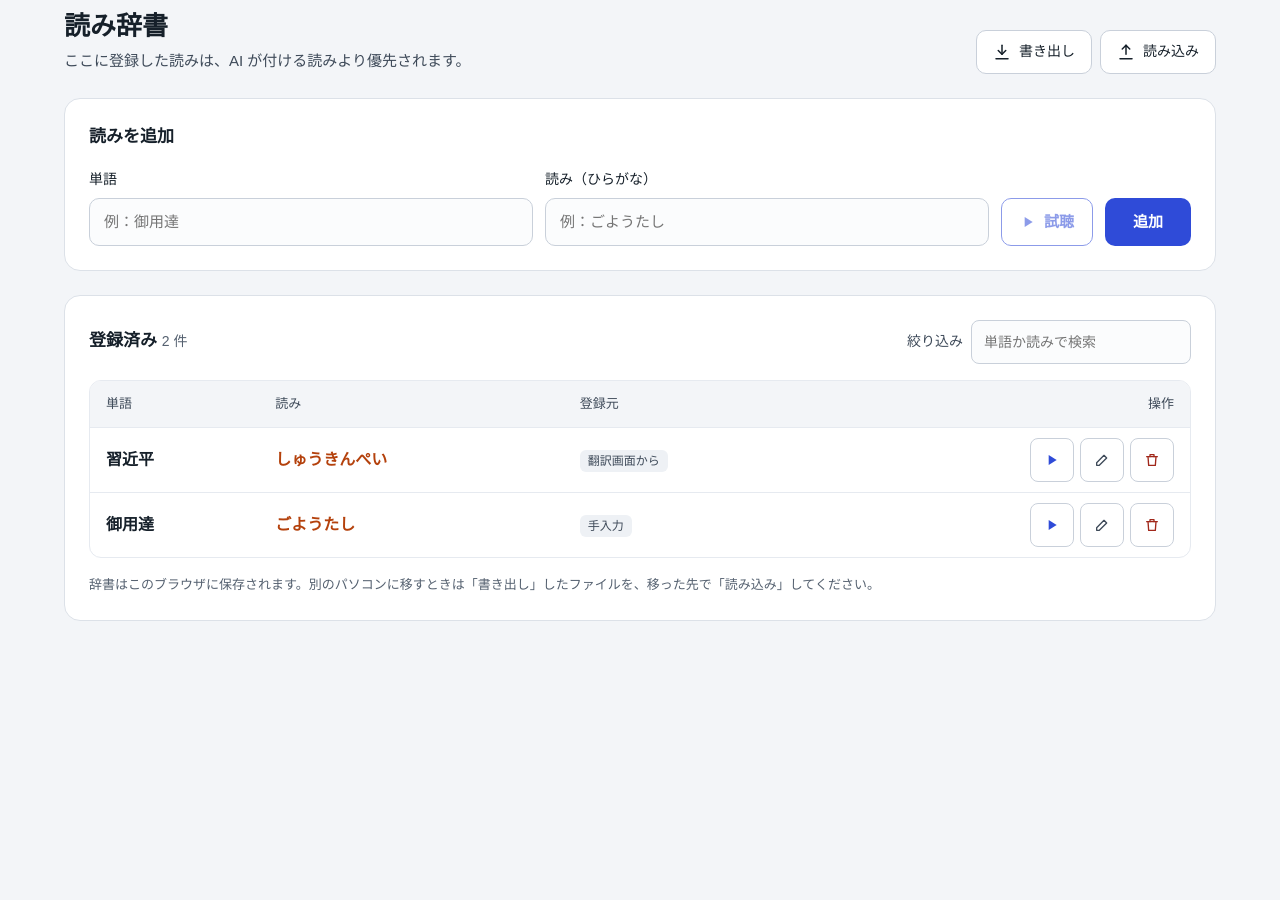
Test: Dictionary 追加 › 読みがひらがなでなければ追加しない
Type "東海林" into the field labelled "単語" at (311, 222), box [89,198,533,246]
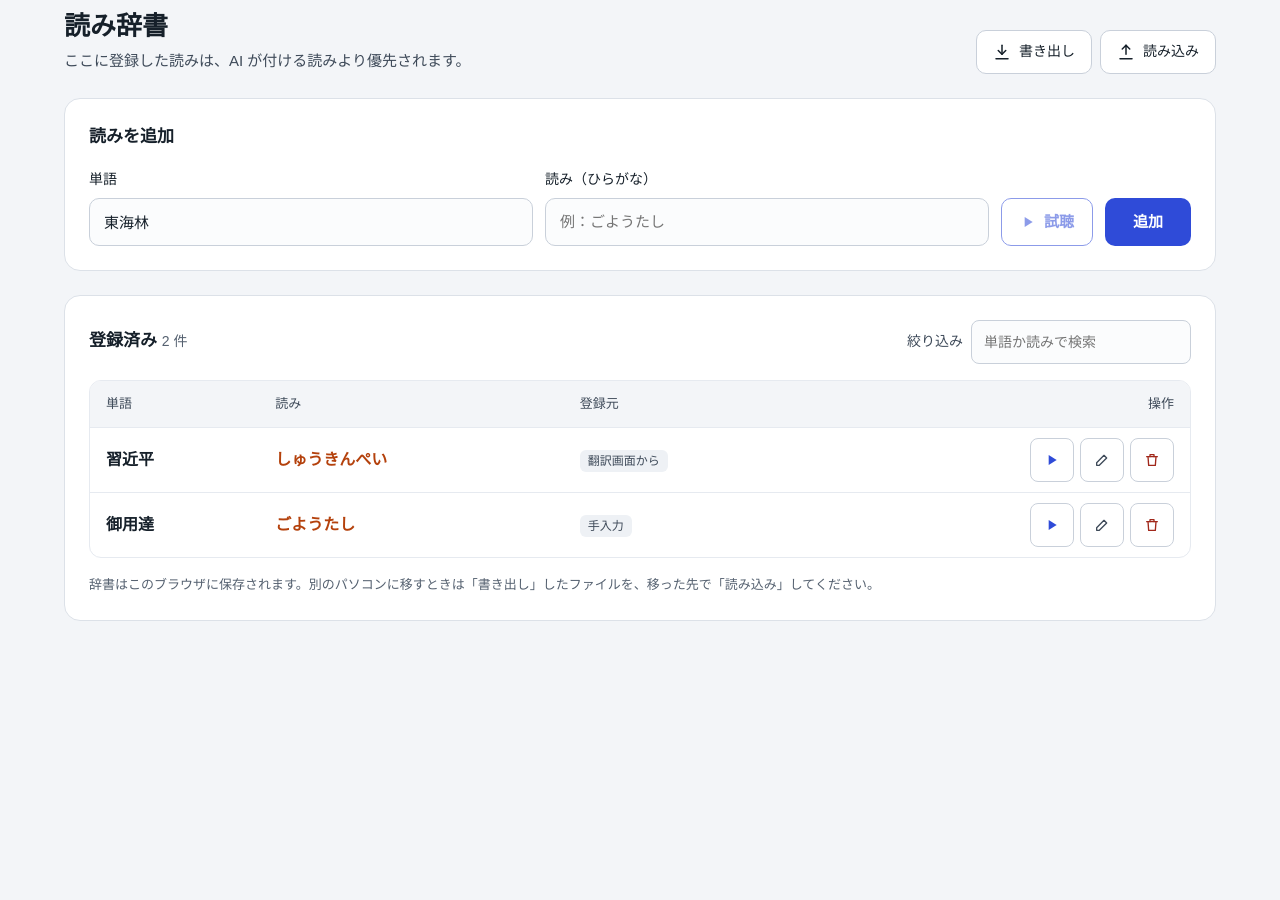
Type "ショウジ" into the field labelled "読み（ひらがな）" at (767, 222), box [545,198,989,246]
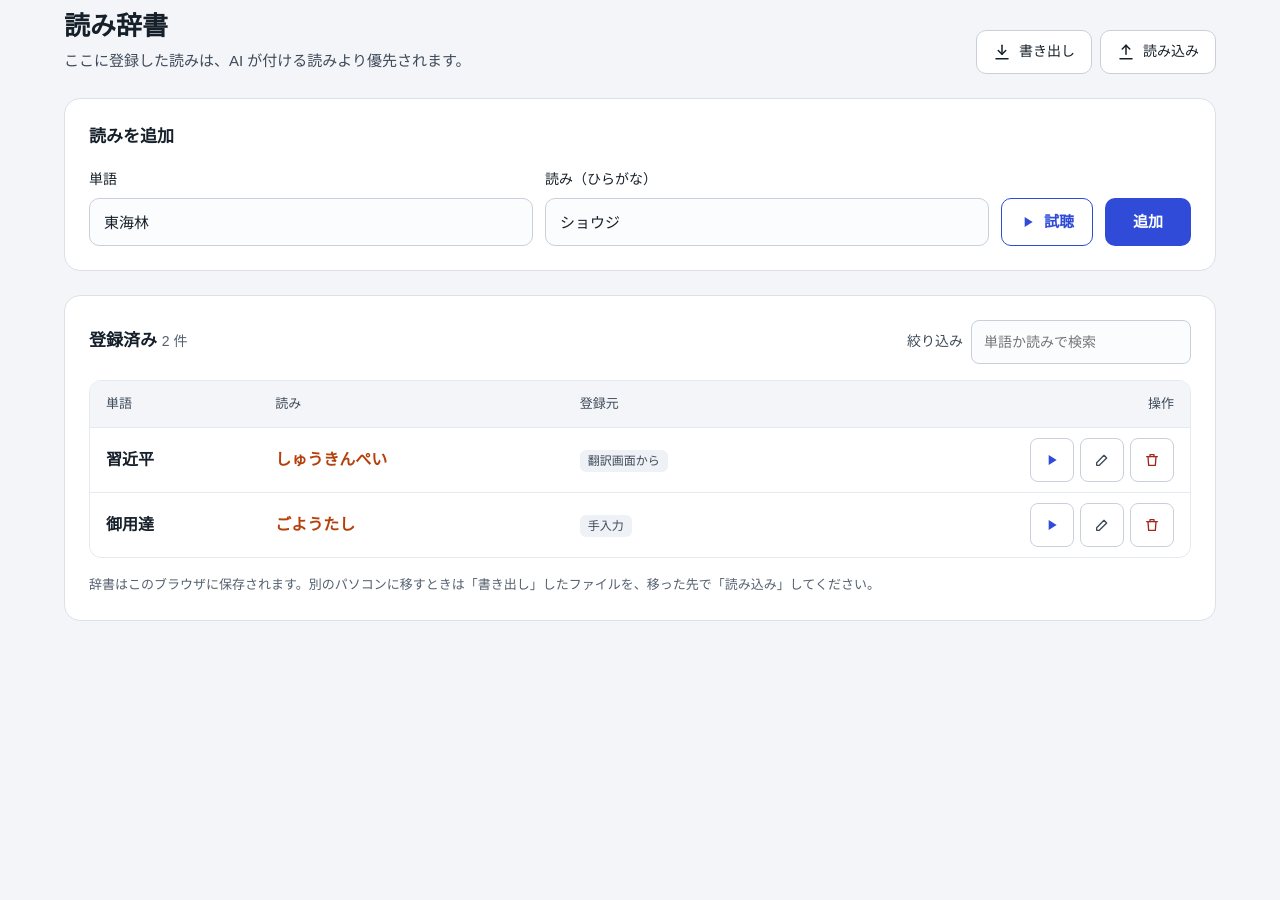
Click the button "追加" at (1148, 222), box [1105,198,1191,246]
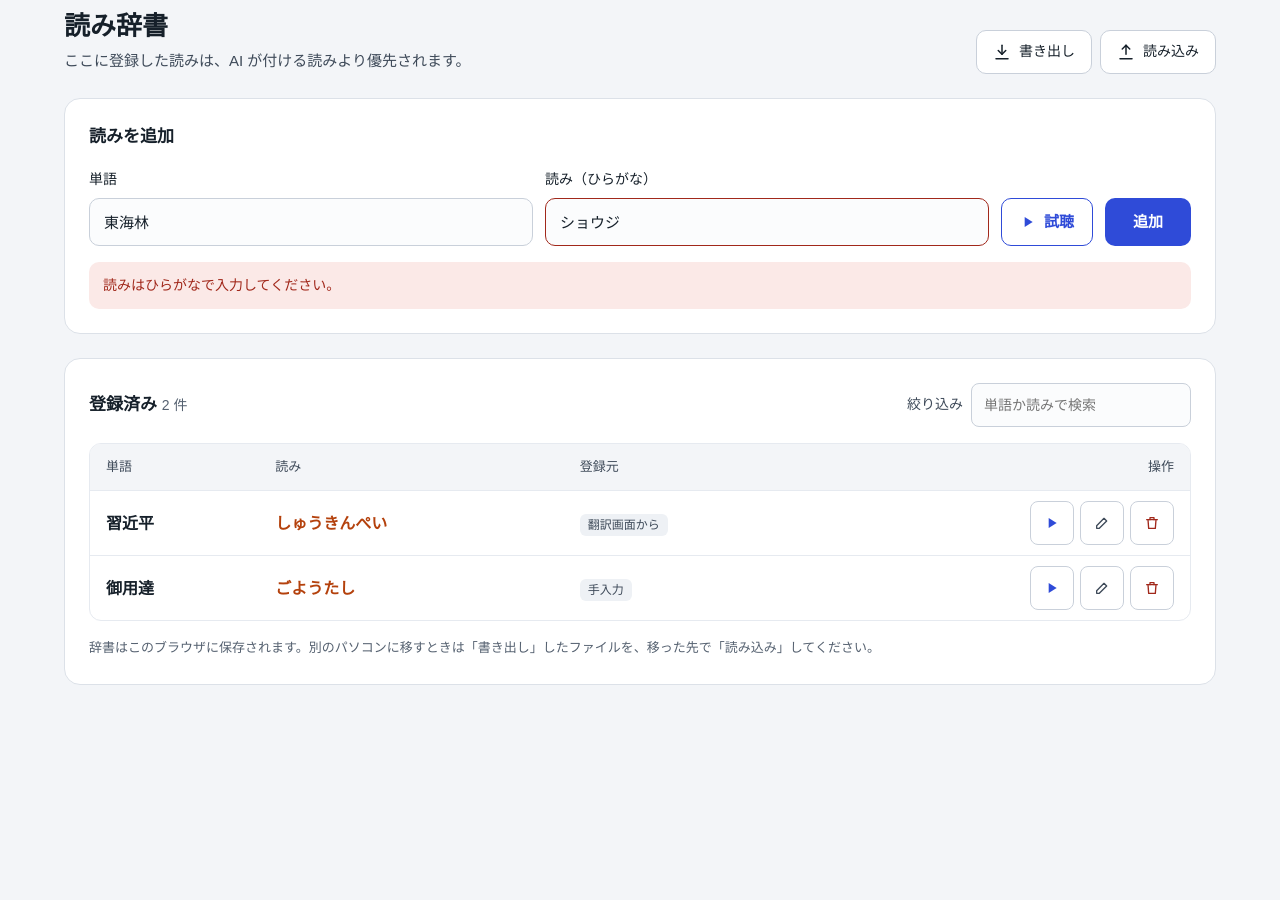
Expected: the message reads "読みはひらがなで入力してください。", [103,277,340,293]
